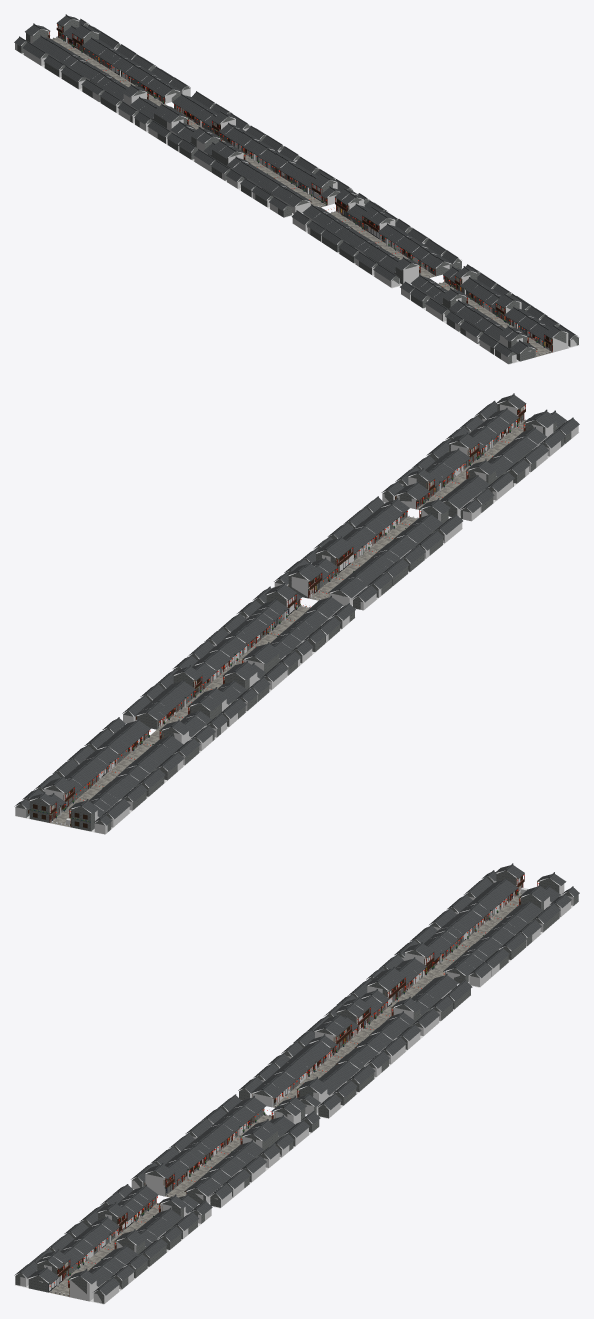
Rendered from nanluo_n2.glb.
The picture shows the model from 3 angles, top to bottom: view 1: azimuth 30°, elevation 25°; view 2: azimuth 150°, elevation 25°; view 3: azimuth 330°, elevation 25°; orthographic projection. The views are drawn at different scales.
Parts seen in each view (by area): view 1: Massing, Lane; view 2: Massing, Lane; view 3: Massing, Lane.
Part boxes in pixels (left/top/right/bottom): Massing: left=14, top=16, right=578, bottom=363; Lane: left=17, top=14, right=578, bottom=363; Massing: left=16, top=395, right=579, bottom=831; Lane: left=14, top=393, right=573, bottom=831; Massing: left=14, top=865, right=578, bottom=1303; Lane: left=15, top=863, right=579, bottom=1303.
Bounding box in the file's own units: 53.15 × 8.89 × 337.
Materials: 38 (17 with a texture image).
